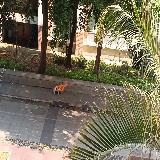fire: (56, 83, 68, 91)
